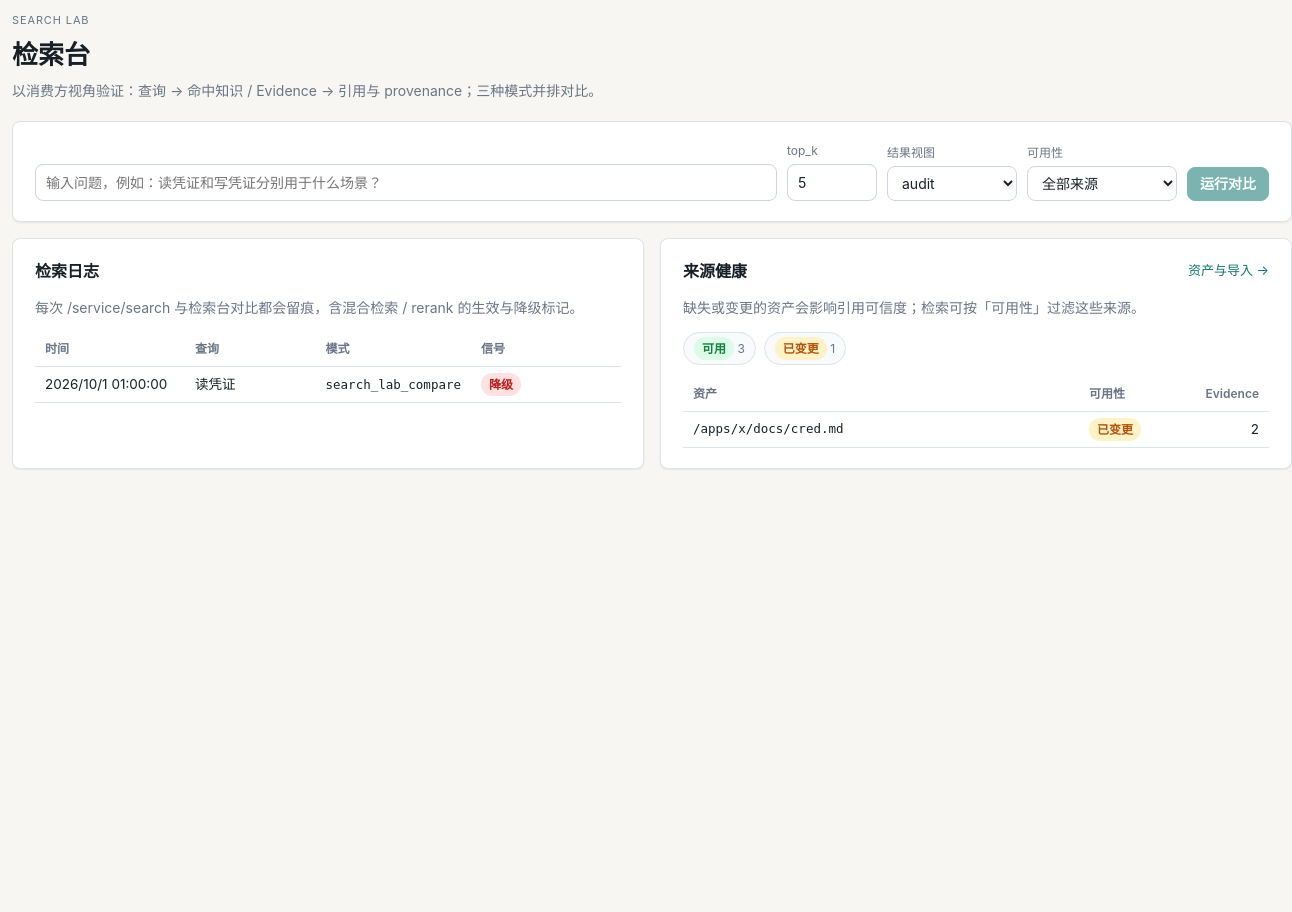
it: search lab › explains next steps when nothing is hit and the KB is unpublished
Type "x" into the field named "查询".
click(406, 182); type("x")  # box [35,164,777,200]
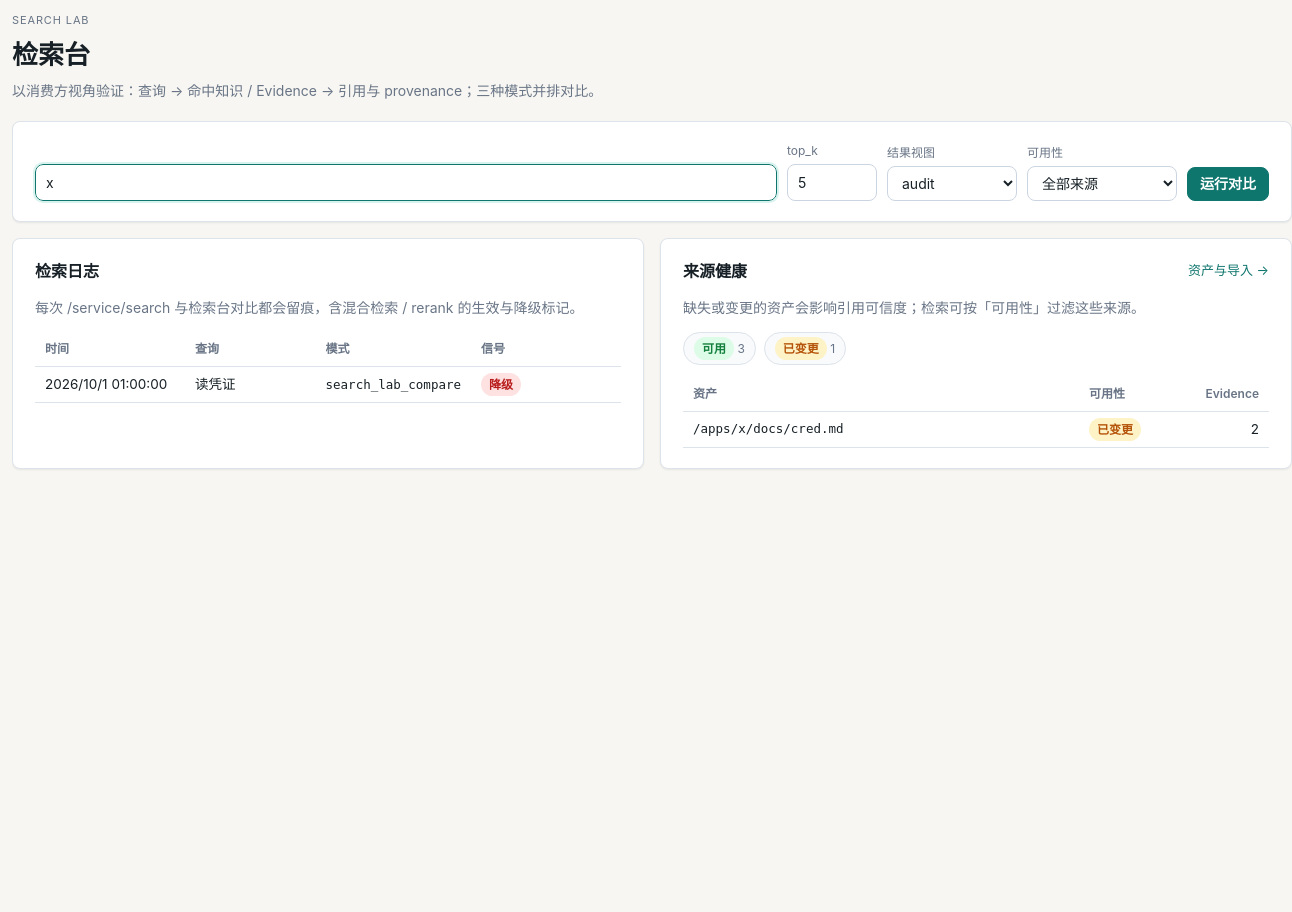
Click the button "运行对比".
click(1228, 184)  # box [1187,166,1269,200]
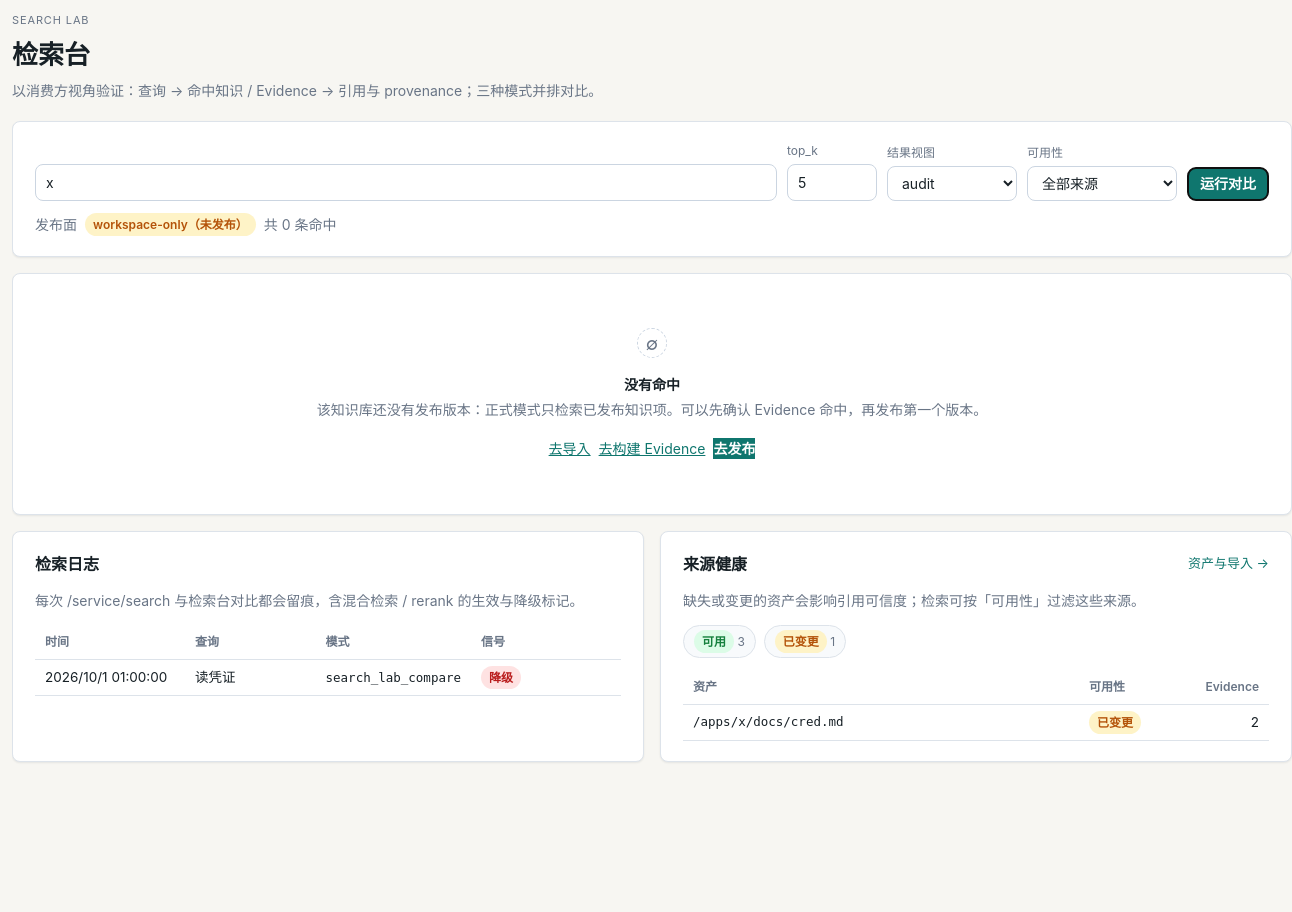
Check: the text "没有命中" is shown, box [624,376,680,393]
Check: the text "该知识库还没有发布版本：正式模式只检索已发布知识项。可以先确认 Evidence 命中，再发布第一个版本。" is shown, box [317,399,987,420]
